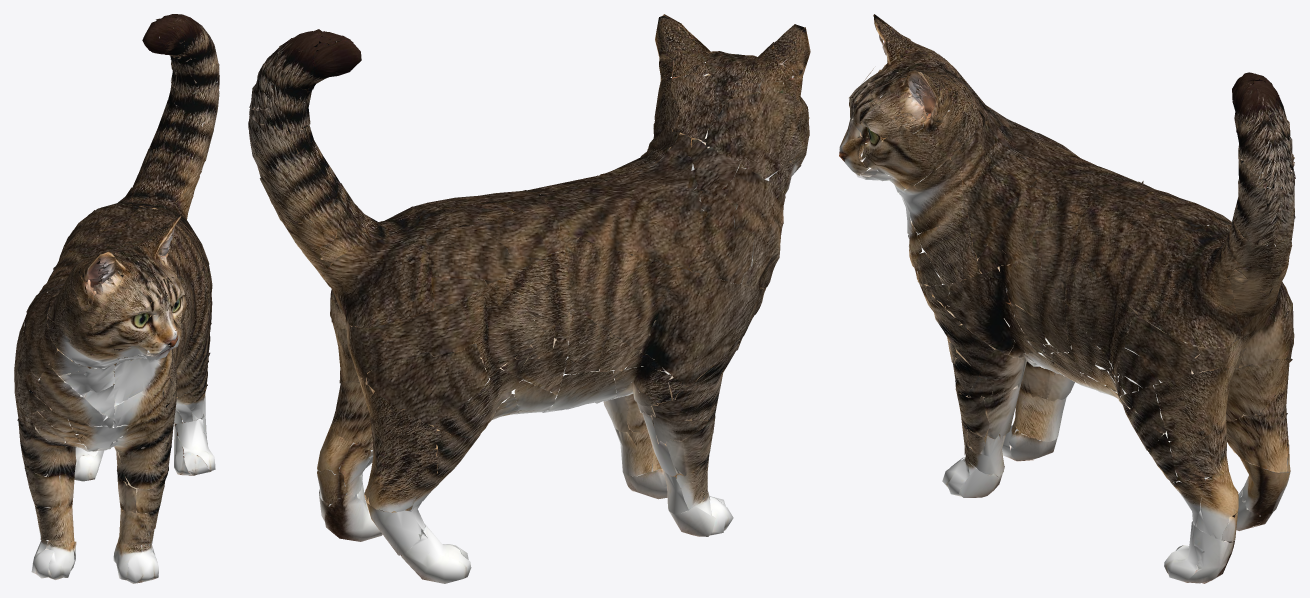
Rendered from cat_clean.glb.
The picture shows the model from 3 angles, left to right: view 1: azimuth 30°, elevation 25°; view 2: azimuth 150°, elevation 25°; view 3: azimuth 270°, elevation 25°; orthographic projection. The views are drawn at different scales.
Parts seen in each view (by area): view 1: grab3d_tabby; view 2: grab3d_tabby; view 3: grab3d_tabby.
Boxes of the visible parts, x1,y1,x2,y2 form: grab3d_tabby: [14, 14, 219, 583]; grab3d_tabby: [248, 14, 810, 583]; grab3d_tabby: [839, 14, 1295, 583].
Bounding box in the file's own units: 0.3735 × 0.5001 × 0.4141.
1 material, 1 textured.
